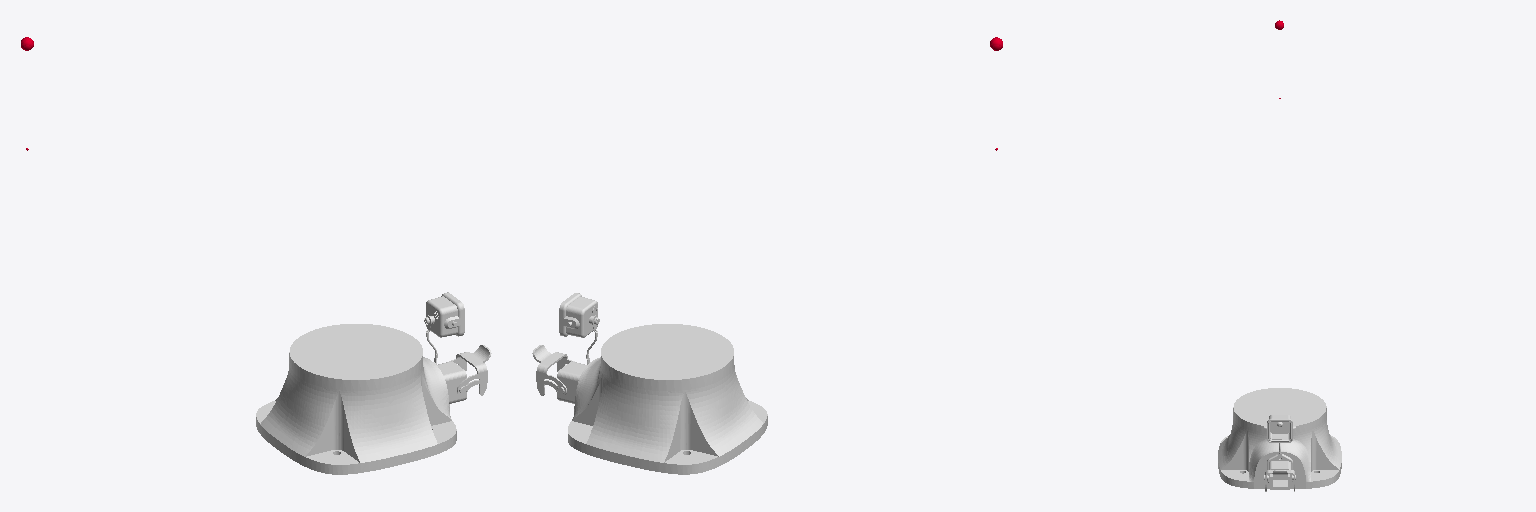
URDF robot description (mg400):
<?xml version="1.0" ?>
<robot name="mg400">
	<link name="world">
		<inertial>
			<origin rpy="0.00000 -0.00000 0.00000" xyz="0.00000 0.00000 0.00000"/>
			<mass value="0.00000"/>
			<inertia ixx="0.00000" ixy="0" ixz="0" iyy="0.00000" iyz="0" izz="0.00000"/>
		</inertial>
	</link>
	<link name="base_link">
		<inertial>
			<origin rpy="0.00000 -0.00000 0.00000" xyz="0.00060 -0.00000 0.05609"/>
			<mass value="3.62165"/>
			<inertia ixx="0.01587" ixy="0" ixz="0" iyy="0.01587" iyz="0" izz="0.02319"/>
		</inertial>
		<visual>
			<origin rpy="0.00000 -0.00000 0.00000" xyz="0.00000 0.00000 0.00000"/>
			<geometry>
				<mesh filename="../robot_arm_assets/mg400/meshes/base_link.STL" scale="1.00000 1.00000 1.00000"/>
			</geometry>
			<material name="mat_0">
				<color rgba="0.90000 0.90000 0.90000 1.00000" />
			</material>
		</visual>
		<collision>
			<origin rpy="0.00000 -0.00000 0.00000" xyz="0.00000 0.00000 0.00000"/>
			<geometry>
				<mesh filename="../robot_arm_assets/mg400/meshes/base_link.STL" scale="1.00000 1.00000 1.00000"/>
			</geometry>
		</collision>
	</link>
	<link name="link1">
		<inertial>
			<origin rpy="0.00000 -0.00000 0.00000" xyz="-0.00462 -0.00007 0.07099"/>
			<mass value="1.77056"/>
			<inertia ixx="0.00748" ixy="0" ixz="0" iyy="0.00775" iyz="0" izz="0.00787"/>
		</inertial>
		<visual>
			<origin rpy="0.00000 -0.00000 0.00000" xyz="0.00000 0.00000 0.00000"/>
			<geometry>
				<mesh filename="../robot_arm_assets/mg400/meshes/link1.STL" scale="1.00000 1.00000 1.00000"/>
			</geometry>
			<material name="mat_1">
				<color rgba="0.30000 0.30000 0.30000 1.00000" />
			</material>
		</visual>
		<collision>
			<origin rpy="0.00000 -0.00000 0.00000" xyz="0.00000 0.00000 0.00000"/>
			<geometry>
				<mesh filename="../robot_arm_assets/mg400/meshes/link1.STL" scale="1.00000 1.00000 1.00000"/>
			</geometry>
		</collision>
	</link>
	<link name="link2_1">
		<inertial>
			<origin rpy="0.00000 -0.00000 0.00000" xyz="-0.00322 0.03529 0.05961"/>
			<mass value="0.08661"/>
			<inertia ixx="0.00038" ixy="0" ixz="0" iyy="0.00035" iyz="0" izz="0.00006"/>
		</inertial>
		<visual>
			<origin rpy="0.00000 -0.00000 0.00000" xyz="0.00000 0.00000 0.00000"/>
			<geometry>
				<mesh filename="../robot_arm_assets/mg400/meshes/link2_1.STL" scale="1.00000 1.00000 1.00000"/>
			</geometry>
			<material name="mat_2">
				<color rgba="0.30000 0.30000 0.30000 1.00000" />
			</material>
		</visual>
		<collision>
			<origin rpy="0.00000 -0.00000 0.00000" xyz="0.00000 0.00000 0.00000"/>
			<geometry>
				<mesh filename="../robot_arm_assets/mg400/meshes/link2_1.STL" scale="1.00000 1.00000 1.00000"/>
			</geometry>
		</collision>
	</link>
	<link name="link3_1">
		<inertial>
			<origin rpy="0.00000 -0.00000 0.00000" xyz="0.08217 0.00011 -0.00334"/>
			<mass value="0.03752"/>
			<inertia ixx="0.00001" ixy="0" ixz="0" iyy="0.00018" iyz="0" izz="0.00018"/>
		</inertial>
		<visual>
			<origin rpy="0.00000 -0.00000 0.00000" xyz="0.00000 0.00000 0.00000"/>
			<geometry>
				<mesh filename="../robot_arm_assets/mg400/meshes/link3_1.STL" scale="1.00000 1.00000 1.00000"/>
			</geometry>
			<material name="mat_3">
				<color rgba="0.30000 0.30000 0.30000 1.00000" />
			</material>
		</visual>
		<collision>
			<origin rpy="0.00000 -0.00000 0.00000" xyz="0.00000 0.00000 0.00000"/>
			<geometry>
				<mesh filename="../robot_arm_assets/mg400/meshes/link3_1.STL" scale="1.00000 1.00000 1.00000"/>
			</geometry>
		</collision>
	</link>
	<link name="link4_1">
		<inertial>
			<origin rpy="0.00000 -0.00000 0.00000" xyz="0.03879 0.01708 -0.00246"/>
			<mass value="0.06290"/>
			<inertia ixx="0.00006" ixy="0" ixz="0" iyy="0.00010" iyz="0" izz="0.00007"/>
		</inertial>
		<visual>
			<origin rpy="0.00000 -0.00000 0.00000" xyz="0.00000 0.00000 0.00000"/>
			<geometry>
				<mesh filename="../robot_arm_assets/mg400/meshes/link4_1.STL" scale="1.00000 1.00000 1.00000"/>
			</geometry>
			<material name="mat_4">
				<color rgba="0.90000 0.90000 0.90000 1.00000" />
			</material>
		</visual>
		<collision>
			<origin rpy="0.00000 -0.00000 0.00000" xyz="0.00000 0.00000 0.00000"/>
			<geometry>
				<mesh filename="../robot_arm_assets/mg400/meshes/link4_1.STL" scale="1.00000 1.00000 1.00000"/>
			</geometry>
		</collision>
	</link>
	<link name="link5">
		<inertial>
			<origin rpy="0.00000 -0.00000 0.00000" xyz="0.00000 0.00000 -0.03497"/>
			<mass value="0.09653"/>
			<inertia ixx="0.00008" ixy="0" ixz="0" iyy="0.00008" iyz="0" izz="0.00003"/>
		</inertial>
		<visual>
			<origin rpy="0.00000 -0.00000 0.00000" xyz="0.00000 0.00000 0.00000"/>
			<geometry>
				<mesh filename="../robot_arm_assets/mg400/meshes/link5.STL" scale="1.00000 1.00000 1.00000"/>
			</geometry>
			<material name="mat_5">
				<color rgba="0.90000 0.90000 0.90000 1.00000" />
			</material>
		</visual>
		<collision>
			<origin rpy="0.00000 -0.00000 0.00000" xyz="0.00000 0.00000 0.00000"/>
			<geometry>
				<mesh filename="../robot_arm_assets/mg400/meshes/link5.STL" scale="1.00000 1.00000 1.00000"/>
			</geometry>
		</collision>
	</link>
	<link name="ee_link">
		<inertial>
			<origin rpy="-3.14000 -0.00000 1.57000" xyz="0.00000 0.00000 0.00000"/>
			<mass value="0.00000"/>
			<inertia ixx="0.00000" ixy="0" ixz="0" iyy="0.00000" iyz="0" izz="0.00000"/>
		</inertial>
		<visual>
			<origin rpy="0.00000 -0.00000 0.00000" xyz="0.00000 0.00000 0.00000"/>
			<geometry>
				<sphere radius="0.00500"/>
			</geometry>
			<material name="mat_6">
				<color rgba="0.90000 0.00000 0.20000 1.00000" />
			</material>
		</visual>
		<collision>
			<origin rpy="0.00000 -0.00000 0.00000" xyz="0.00000 0.00000 0.00000"/>
			<geometry>
				<sphere radius="0.00100"/>
			</geometry>
		</collision>
	</link>
	<link name="link2_2">
		<inertial>
			<origin rpy="0.00000 -0.00000 0.00000" xyz="-0.02011 0.03050 0.07363"/>
			<mass value="0.06625"/>
			<inertia ixx="0.00025" ixy="0" ixz="0" iyy="0.00024" iyz="0" izz="0.00004"/>
		</inertial>
		<visual>
			<origin rpy="0.00000 -0.00000 0.00000" xyz="0.00000 0.00000 0.00000"/>
			<geometry>
				<mesh filename="../robot_arm_assets/mg400/meshes/link2_2.STL" scale="1.00000 1.00000 1.00000"/>
			</geometry>
			<material name="mat_7">
				<color rgba="0.90000 0.90000 0.90000 1.00000" />
			</material>
		</visual>
		<collision>
			<origin rpy="0.00000 -0.00000 0.00000" xyz="0.00000 0.00000 0.00000"/>
			<geometry>
				<mesh filename="../robot_arm_assets/mg400/meshes/link2_2.STL" scale="1.00000 1.00000 1.00000"/>
			</geometry>
		</collision>
	</link>
	<link name="link3_2">
		<inertial>
			<origin rpy="0.00000 -0.00000 0.00000" xyz="0.03386 0.02402 0.00452"/>
			<mass value="0.03667"/>
			<inertia ixx="0.00002" ixy="0" ixz="0" iyy="0.00004" iyz="0" izz="0.00004"/>
		</inertial>
		<visual>
			<origin rpy="0.00000 -0.00000 0.00000" xyz="0.00000 0.00000 0.00000"/>
			<geometry>
				<mesh filename="../robot_arm_assets/mg400/meshes/link3_2.STL" scale="1.00000 1.00000 1.00000"/>
			</geometry>
			<material name="mat_8">
				<color rgba="0.30000 0.30000 0.30000 1.00000" />
			</material>
		</visual>
		<collision>
			<origin rpy="0.00000 -0.00000 0.00000" xyz="0.00000 0.00000 0.00000"/>
			<geometry>
				<mesh filename="../robot_arm_assets/mg400/meshes/link3_2.STL" scale="1.00000 1.00000 1.00000"/>
			</geometry>
		</collision>
	</link>
	<link name="link4_2">
		<inertial>
			<origin rpy="0.00000 -0.00000 0.00000" xyz="0.08764 0.02350 0.00831"/>
			<mass value="0.04536"/>
			<inertia ixx="0.00002" ixy="0" ixz="0" iyy="0.00016" iyz="0" izz="0.00016"/>
		</inertial>
		<visual>
			<origin rpy="0.00000 -0.00000 0.00000" xyz="0.00000 0.00000 0.00000"/>
			<geometry>
				<mesh filename="../robot_arm_assets/mg400/meshes/link4_2.STL" scale="1.00000 1.00000 1.00000"/>
			</geometry>
			<material name="mat_9">
				<color rgba="0.90000 0.90000 0.90000 1.00000" />
			</material>
		</visual>
		<collision>
			<origin rpy="0.00000 -0.00000 0.00000" xyz="0.00000 0.00000 0.00000"/>
			<geometry>
				<mesh filename="../robot_arm_assets/mg400/meshes/link4_2.STL" scale="1.00000 1.00000 1.00000"/>
			</geometry>
		</collision>
	</link>
	<link name="tactip_body_link">
		<inertial>
			<origin rpy="0.00000 -0.00000 0.00000" xyz="0.00000 0.00000 0.00000"/>
			<mass value="0.25000"/>
			<inertia ixx="0.00022" ixy="0" ixz="0" iyy="0.00021" iyz="0" izz="0.00021"/>
		</inertial>
		<visual>
			<origin rpy="0.00000 -0.00000 0.00000" xyz="0.00000 0.00000 0.00000"/>
			<geometry>
				<mesh filename="../sensor_assets/standard_tactip/body/tactip_body.obj" scale="1.00000 1.00000 1.00000"/>
			</geometry>
			<material name="mat_10">
				<color rgba="0.80000 0.80000 0.80000 1.00000" />
			</material>
		</visual>
		<collision>
			<origin rpy="0.00000 -0.00000 0.00000" xyz="0.00000 0.00000 0.00000"/>
			<geometry>
				<mesh filename="../sensor_assets/standard_tactip/body/tactip_body.obj" scale="1.00000 1.00000 1.00000"/>
			</geometry>
		</collision>
	</link>
	<link name="tactip_tip_link">
		<inertial>
			<origin rpy="0.00000 -0.00000 0.00000" xyz="0.00000 0.00000 0.00000"/>
			<mass value="0.01000"/>
			<inertia ixx="0.00000" ixy="0" ixz="0" iyy="0.00000" iyz="0" izz="0.00000"/>
		</inertial>
		<visual>
			<origin rpy="0.00000 -0.00000 0.00000" xyz="0.00000 0.00000 0.00000"/>
			<geometry>
				<mesh filename="../sensor_assets/standard_tactip/tip/skin.obj" scale="1.00000 1.00000 1.00000"/>
			</geometry>
			<material name="mat_11">
				<color rgba="0.00000 0.00000 0.00000 1.00000" />
			</material>
		</visual>
		<collision>
			<origin rpy="0.00000 -0.00000 0.00000" xyz="0.00000 0.00000 0.00000"/>
			<geometry>
				<mesh filename="../sensor_assets/standard_tactip/tip/core.obj" scale="1.00000 1.00000 1.00000"/>
			</geometry>
		</collision>
	</link>
	<link name="tcp_link">
		<inertial>
			<origin rpy="0.00000 -0.00000 1.57000" xyz="0.00000 0.00000 0.00000"/>
			<mass value="0.00000"/>
			<inertia ixx="0.00000" ixy="0" ixz="0" iyy="0.00000" iyz="0" izz="0.00000"/>
		</inertial>
		<visual>
			<origin rpy="0.00000 -0.00000 0.00000" xyz="0.00000 0.00000 0.00000"/>
			<geometry>
				<sphere radius="0.00100"/>
			</geometry>
			<material name="mat_12">
				<color rgba="0.90000 0.00000 0.20000 0.50000" />
			</material>
		</visual>
	</link>
	<joint name="world_joint" type="fixed">
		<parent link="world"/>
		<child link="base_link"/>
		<dynamics damping="1.0" friction="0.0001"/>
		<origin rpy="0.00000 -0.00000 -3.14000" xyz="0.00000 0.00000 0.00000"/>
		<axis xyz="0.00000 0.00000 0.00000"/>
	</joint>
	<joint name="j1" type="revolute">
		<parent link="base_link"/>
		<child link="link1"/>
		<limit effort="0.00000" lower="-3.14000" upper="3.14000" velocity="0.00000"/>
		<dynamics damping="1.0" friction="0.0001"/>
		<origin rpy="0.00000 -0.00000 0.00000" xyz="-0.00500 0.00000 0.10900"/>
		<axis xyz="0.00000 0.00000 1.00000"/>
	</joint>
	<joint name="j2_1" type="revolute">
		<parent link="link1"/>
		<child link="link2_1"/>
		<limit effort="0.00000" lower="-3.14000" upper="3.14000" velocity="0.00000"/>
		<dynamics damping="1.0" friction="0.0001"/>
		<origin rpy="0.00000 -0.00000 0.00000" xyz="0.04350 -0.03577 0.11900"/>
		<axis xyz="0.00000 1.00000 0.00000"/>
	</joint>
	<joint name="j3_1" type="revolute">
		<parent link="link2_1"/>
		<child link="link3_1"/>
		<limit effort="0.00000" lower="-3.14000" upper="3.14000" velocity="0.00000"/>
		<dynamics damping="1.0" friction="0.0001"/>
		<origin rpy="0.00000 -0.00000 0.00000" xyz="-0.00105 0.03577 0.17500"/>
		<axis xyz="0.00000 1.00000 0.00000"/>
	</joint>
	<joint name="j4_1" type="revolute">
		<parent link="link3_1"/>
		<child link="link4_1"/>
		<limit effort="0.00000" lower="-3.14000" upper="3.14000" velocity="0.00000"/>
		<dynamics damping="1.0" friction="0.0001"/>
		<origin rpy="0.00000 -0.00000 0.00000" xyz="0.17497 -0.01700 0.00325"/>
		<axis xyz="0.00000 1.00000 0.00000"/>
	</joint>
	<joint name="j5" type="revolute">
		<parent link="link4_1"/>
		<child link="link5"/>
		<limit effort="0.00000" lower="-3.14000" upper="3.14000" velocity="0.00000"/>
		<dynamics damping="1.0" friction="0.0001"/>
		<origin rpy="0.00000 -0.00000 0.00000" xyz="0.06600 0.01700 0.03100"/>
		<axis xyz="-0.00001 0.00000 1.00000"/>
	</joint>
	<joint name="ee_joint" type="fixed">
		<parent link="link5"/>
		<child link="ee_link"/>
		<dynamics damping="1.0" friction="0.0001"/>
		<origin rpy="0.00000 -0.00000 0.00000" xyz="0.00000 0.00000 -0.06500"/>
		<axis xyz="0.00000 0.00000 0.00000"/>
	</joint>
	<joint name="j2_2" type="revolute">
		<parent link="link1"/>
		<child link="link2_2"/>
		<limit effort="0.00000" lower="-3.14000" upper="3.14000" velocity="0.00000"/>
		<dynamics damping="1.0" friction="0.0001"/>
		<origin rpy="0.00000 -0.00000 0.00000" xyz="0.00453 -0.03050 0.14150"/>
		<axis xyz="0.00000 1.00000 0.00000"/>
	</joint>
	<joint name="j3_2" type="revolute">
		<parent link="link2_2"/>
		<child link="link3_2"/>
		<limit effort="0.00000" lower="-3.14000" upper="3.14000" velocity="0.00000"/>
		<dynamics damping="1.0" friction="0.0001"/>
		<origin rpy="0.00000 -0.00000 0.00000" xyz="-0.00105 0.00650 0.17500"/>
		<axis xyz="0.00000 1.00000 0.00000"/>
	</joint>
	<joint name="j4_2" type="revolute">
		<parent link="link3_2"/>
		<child link="link4_2"/>
		<limit effort="0.00000" lower="-3.14000" upper="3.14000" velocity="0.00000"/>
		<dynamics damping="1.0" friction="0.0001"/>
		<origin rpy="0.00000 -0.00000 0.00000" xyz="0.06790 0.00050 0.01197"/>
		<axis xyz="0.00000 1.00000 0.00000"/>
	</joint>
	<joint name="joint_dummy1" type="fixed">
		<parent link="ee_link"/>
		<child link="tactip_body_link"/>
		<dynamics damping="1.0" friction="0.0001"/>
		<origin rpy="-3.14159 0.00000 3.14159" xyz="0.00000 0.00000 0.00000"/>
		<axis xyz="0.00000 0.00000 1.00000"/>
	</joint>
	<joint name="tactip_tip_to_body" type="fixed">
		<parent link="tactip_body_link"/>
		<child link="tactip_tip_link"/>
		<dynamics damping="1.0" friction="0.0001"/>
		<origin rpy="1.57000 -0.00000 0.00000" xyz="0.00000 0.00000 0.06500"/>
		<axis xyz="0.00000 0.00000 0.00000"/>
	</joint>
	<joint name="tcp_joint" type="fixed">
		<parent link="tactip_body_link"/>
		<child link="tcp_link"/>
		<dynamics damping="1.0" friction="0.0001"/>
		<origin rpy="0.00000 -0.00000 0.00000" xyz="0.00000 0.00000 0.08500"/>
		<axis xyz="0.00000 0.00000 0.00000"/>
	</joint>
</robot>

--- Render facts (derived) ---
The picture shows the robot from 3 angles, left to right: view 1: azimuth 30°, elevation 25°; view 2: azimuth 150°, elevation 25°; view 3: azimuth 270°, elevation 25°; orthographic projection.
Model mg400 with 14 links and 13 joints (8 revolute, 5 fixed), rooted at world, posed every joint at zero.
Visible links, largest first — view 1: base_link; view 2: base_link; view 3: base_link.
Link boxes in pixels (box(x1,y1,x2,y2)): base_link: box(256, 292, 491, 474); base_link: box(532, 293, 767, 474); base_link: box(1218, 388, 1341, 491).
Size in the robot's own frame: 0.3937 by 0.13 by 0.3837 metres.
1 mesh visuals loaded from 11 distinct referenced files (1 binary STL); not drawn: 10 (reference not matched to a file when rendering).